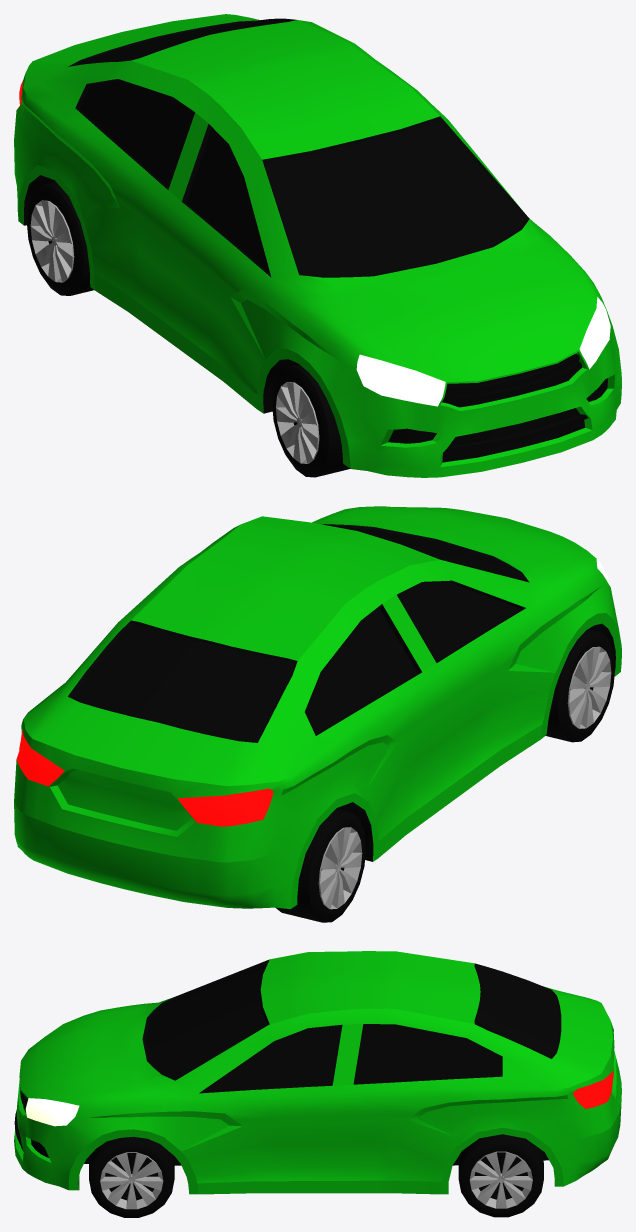
The picture shows the model from 3 angles, top to bottom: view 1: azimuth 30°, elevation 25°; view 2: azimuth 150°, elevation 25°; view 3: azimuth 270°, elevation 25°; orthographic projection. The views are drawn at different scales.
Visible parts, largest first — view 1: Vesta, FR_Wheel, BR_Wheel; view 2: Vesta, BR_Wheel, FR_Wheel; view 3: Vesta, BL_Wheel, FL_Wheel.
Boxes of the visible parts, x1,y1,x2,y2 form: Vesta: (14,14,621,477); FR_Wheel: (272,364,350,477); BR_Wheel: (26,182,93,295); Vesta: (14,506,621,909); BR_Wheel: (275,808,365,922); FR_Wheel: (545,629,615,742); Vesta: (14,951,621,1194); BL_Wheel: (458,1134,543,1217); FL_Wheel: (89,1136,174,1217).
Size of the model in its own units: 1.83 by 1.5 by 4.39.
